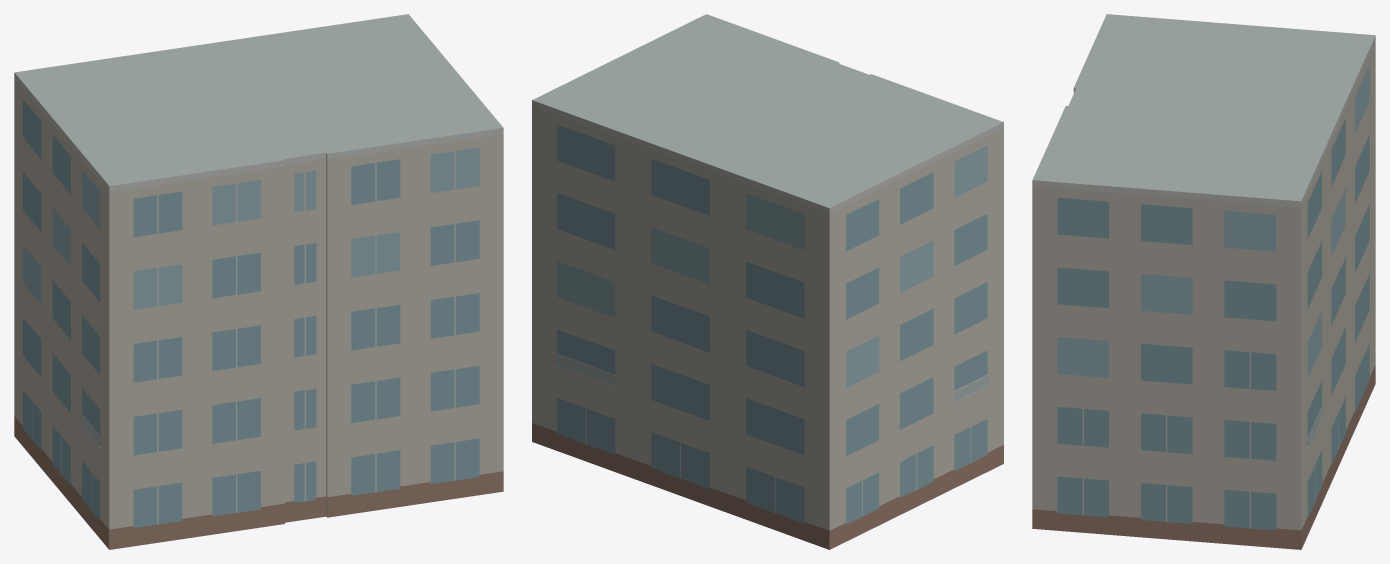
File: survey-upis-32714442.glb
The picture shows the model from 3 angles, left to right: view 1: azimuth 30°, elevation 25°; view 2: azimuth 150°, elevation 25°; view 3: azimuth 270°, elevation 25°; orthographic projection. The views are drawn at different scales.
Visible parts, largest first — view 1: survey-upis-32714442.tmp; view 2: survey-upis-32714442.tmp; view 3: survey-upis-32714442.tmp.
Part boxes in pixels (x1,y1,x2,y2): survey-upis-32714442.tmp: [14, 14, 503, 549]; survey-upis-32714442.tmp: [532, 14, 1003, 549]; survey-upis-32714442.tmp: [1032, 14, 1375, 549].
Size of the model in its own units: 16.72 by 14.5 by 12.95.
